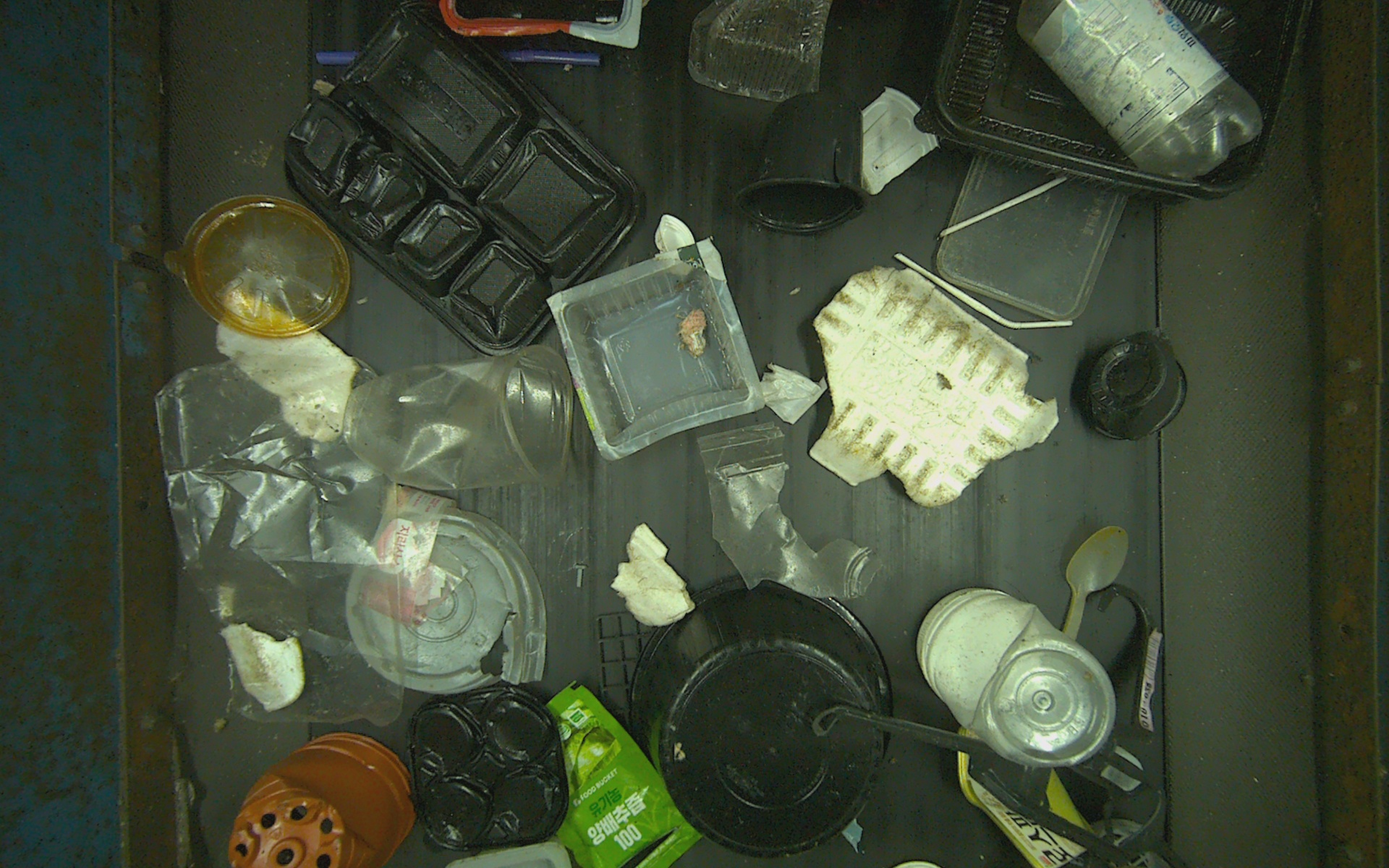PET-C: (344, 344, 573, 490)
PP-B: (627, 578, 894, 857)
